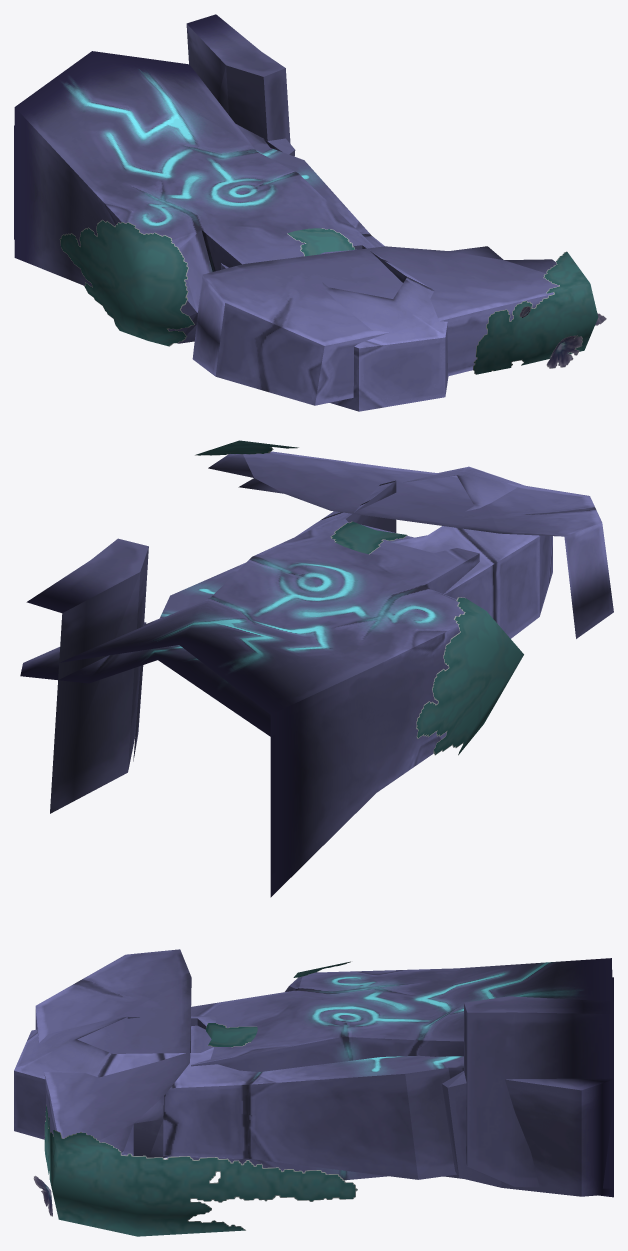
Rendered from rocks 04-05.glb.
3 renders of one model, top to bottom at view 1: azimuth 30°, elevation 25°; view 2: azimuth 150°, elevation 25°; view 3: azimuth 270°, elevation 25°, orthographic. The views are drawn at different scales.
Parts seen in each view (by area): view 1: rocks.rocks_04-05_e-MeshSets[rock_04].Mesh[0], rocks.rocks_04-05_e-MeshSets[rock_04].Mesh[1], rocks.rocks_04-05_e-MeshSets[rock_05].Mesh[0], rocks.rocks_04-05_e-MeshSets[rock_05].Mesh[1]; view 2: rocks.rocks_04-05_e-MeshSets[rock_04].Mesh[0], rocks.rocks_04-05_e-MeshSets[rock_05].Mesh[0], rocks.rocks_04-05_e-MeshSets[rock_04].Mesh[1], rocks.rocks_04-05_e-MeshSets[rock_05].Mesh[1]; view 3: rocks.rocks_04-05_e-MeshSets[rock_04].Mesh[0], rocks.rocks_04-05_e-MeshSets[rock_05].Mesh[0], rocks.rocks_04-05_e-MeshSets[rock_04].Mesh[1], rocks.rocks_04-05_e-MeshSets[rock_05].Mesh[1].
Boxes of the visible parts, x1,y1,x2,y2 form: rocks.rocks_04-05_e-MeshSets[rock_04].Mesh[0]: (14, 14, 558, 405); rocks.rocks_04-05_e-MeshSets[rock_04].Mesh[1]: (59, 219, 606, 374); rocks.rocks_04-05_e-MeshSets[rock_05].Mesh[0]: (14, 124, 448, 411); rocks.rocks_04-05_e-MeshSets[rock_05].Mesh[1]: (287, 228, 354, 256); rocks.rocks_04-05_e-MeshSets[rock_04].Mesh[0]: (26, 451, 613, 897); rocks.rocks_04-05_e-MeshSets[rock_05].Mesh[0]: (20, 466, 552, 874); rocks.rocks_04-05_e-MeshSets[rock_04].Mesh[1]: (195, 440, 523, 755); rocks.rocks_04-05_e-MeshSets[rock_05].Mesh[1]: (330, 521, 407, 554); rocks.rocks_04-05_e-MeshSets[rock_04].Mesh[0]: (35, 949, 613, 1197); rocks.rocks_04-05_e-MeshSets[rock_05].Mesh[0]: (14, 977, 613, 1196); rocks.rocks_04-05_e-MeshSets[rock_04].Mesh[1]: (33, 961, 357, 1236); rocks.rocks_04-05_e-MeshSets[rock_05].Mesh[1]: (206, 1023, 257, 1047).
Bounding box in the file's own units: 1.96 × 1.18 × 2.73.
Materials: 3 (3 with a texture image).
